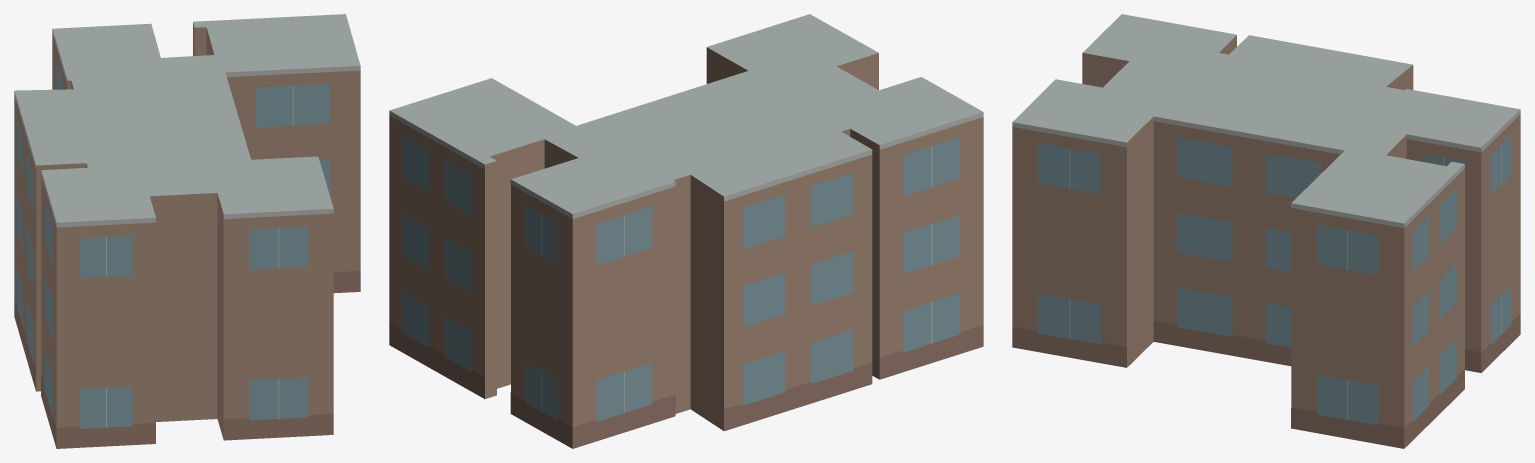
Rendered from survey-upis-32601613.glb.
3 renders of one model, left to right at view 1: azimuth 30°, elevation 25°; view 2: azimuth 150°, elevation 25°; view 3: azimuth 270°, elevation 25°, orthographic. The views are drawn at different scales.
Parts seen in each view (by area): view 1: survey-upis-32601613.tmp; view 2: survey-upis-32601613.tmp; view 3: survey-upis-32601613.tmp.
Part boxes in pixels (x1,y1,x2,y2): survey-upis-32601613.tmp: [14, 14, 360, 448]; survey-upis-32601613.tmp: [389, 14, 983, 448]; survey-upis-32601613.tmp: [1012, 14, 1520, 448].
Bounding box in the file's own units: 23.35 × 11.7 × 23.92.
